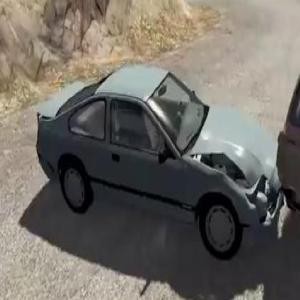low_impact: (32, 0, 300, 300)
